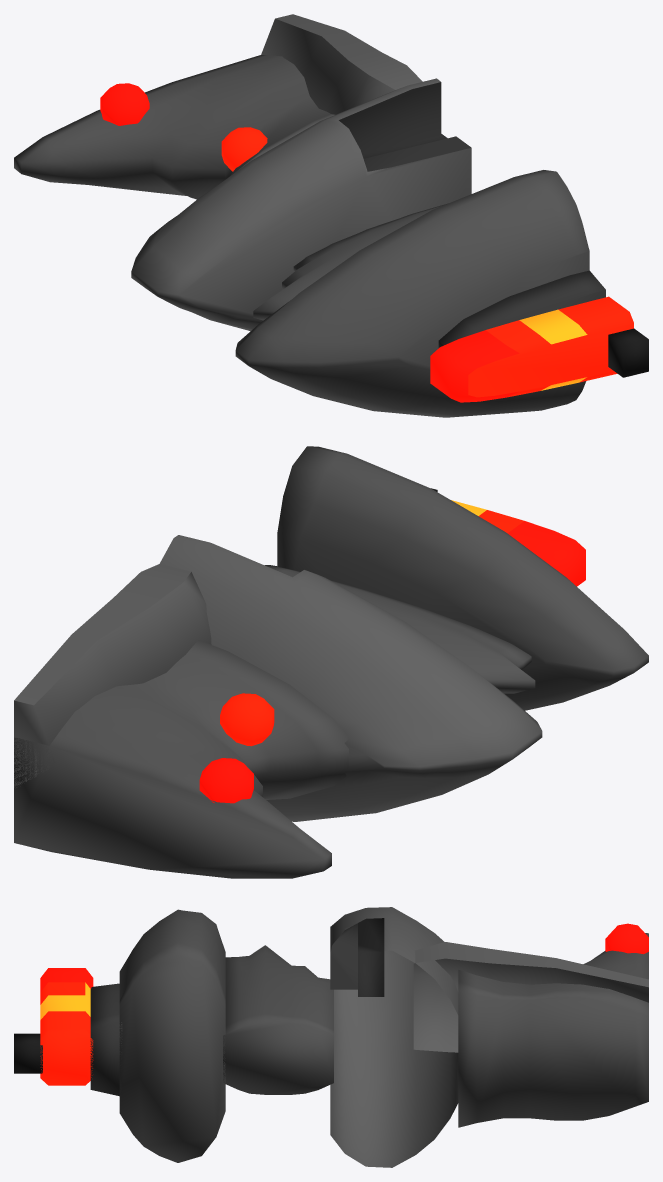
File: newshl-77.glb
3 renders of one model, top to bottom at view 1: azimuth 30°, elevation 25°; view 2: azimuth 150°, elevation 25°; view 3: azimuth 270°, elevation 25°, orthographic. The views are drawn at different scales.
Visible parts, largest first — view 1: newshl-77; view 2: newshl-77; view 3: newshl-77.
Boxes of the visible parts, x1=… form: newshl-77: x1=14, y1=14, x2=648, y2=417; newshl-77: x1=14, y1=446, x2=648, y2=878; newshl-77: x1=14, y1=907, x2=648, y2=1167.
Bounding box in the file's own units: 0.9994 × 0.7549 × 2.
